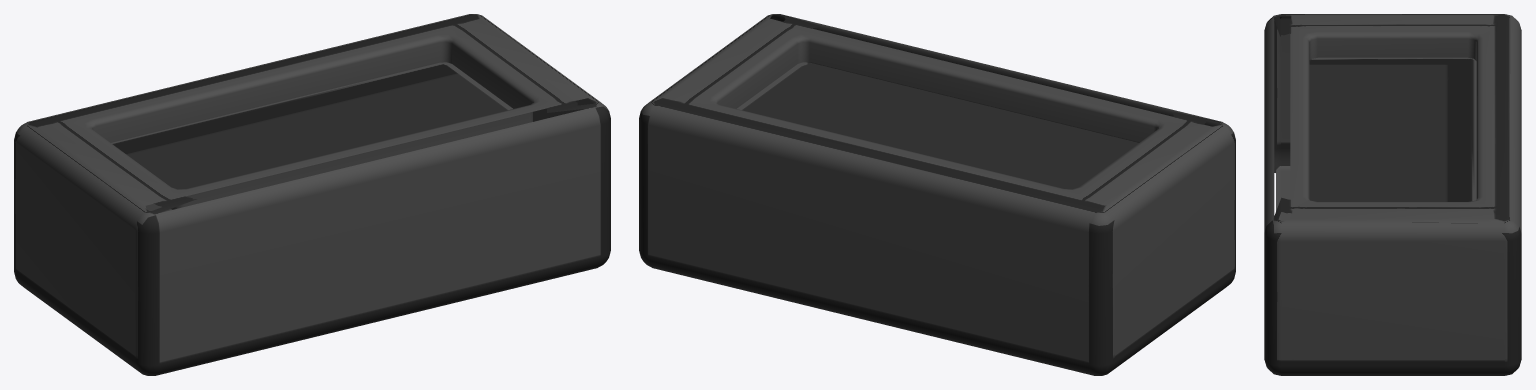
The model's file is Smooth Brick.fbx.
3 renders of one model, left to right at view 1: azimuth 30°, elevation 25°; view 2: azimuth 150°, elevation 25°; view 3: azimuth 270°, elevation 25°, orthographic. The views are drawn at different scales.
Visible parts, largest first — view 1: Smooth_Brick; view 2: Smooth_Brick; view 3: Smooth_Brick.
Part boxes in pixels (box(x1,y1,x2,y2)): Smooth_Brick: box(14, 14, 610, 375); Smooth_Brick: box(639, 14, 1235, 375); Smooth_Brick: box(1264, 14, 1521, 375).
Bounding box in the file's own units: 27.69 × 9.23 × 13.84.
